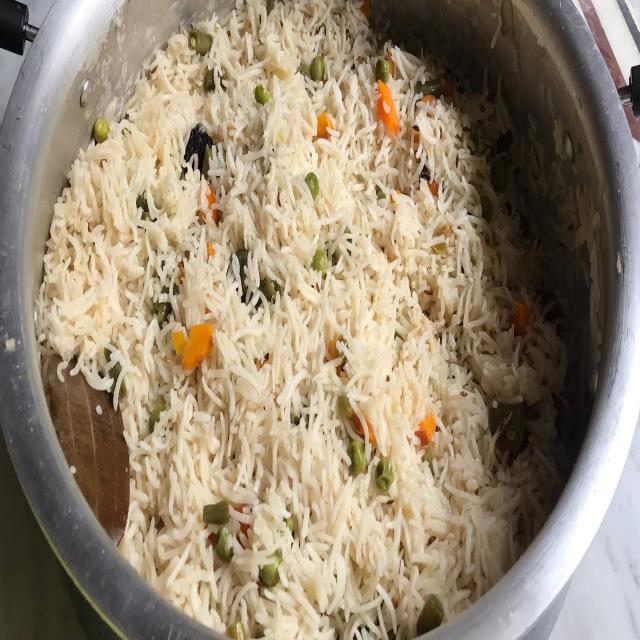veg palav: (23, 0, 609, 640)
